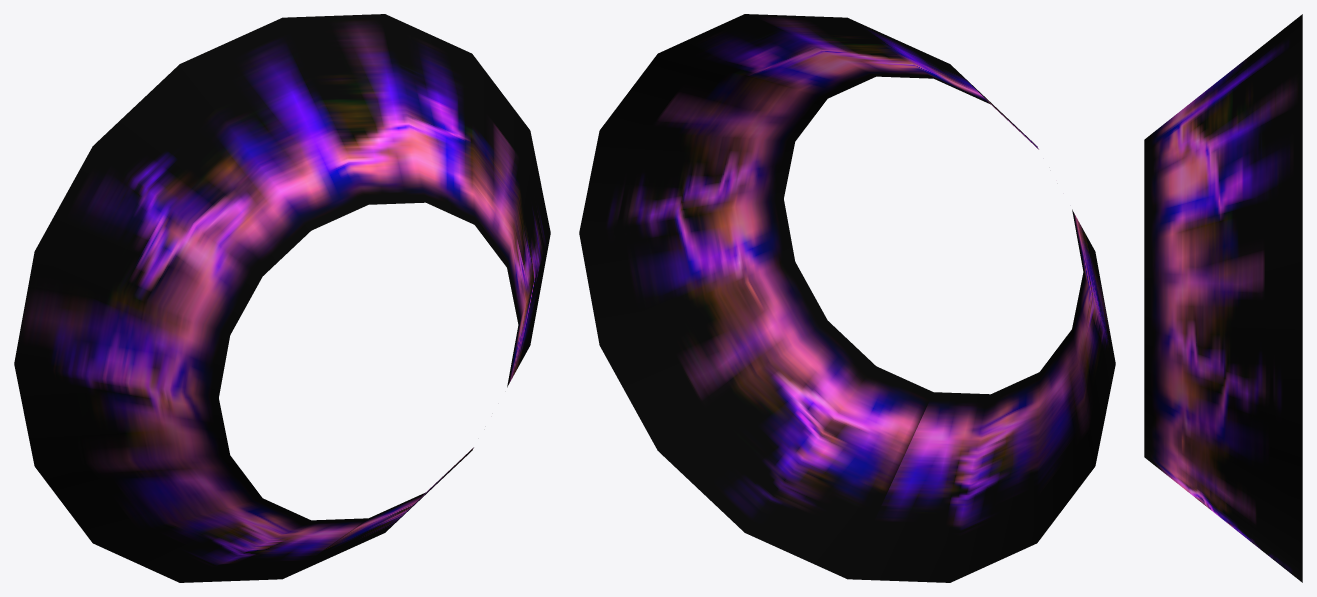
Rendered from fx_fbx_zhutidizi01.FBX.
3 views of the same model, side by side, from view 1: azimuth 30°, elevation 25°; view 2: azimuth 150°, elevation 25°; view 3: azimuth 270°, elevation 25° (orthographic). The views are drawn at different scales.
Visible parts, largest first — view 1: Cylinder001; view 2: Cylinder001; view 3: Cylinder001.
Part boxes in pixels (box(x1,y1,x2,y2)): Cylinder001: box(14, 14, 550, 582); Cylinder001: box(579, 14, 1115, 582); Cylinder001: box(1144, 14, 1302, 582).
Size of the model in its own units: 106 by 29.33 by 106.
1 material, 1 textured.
